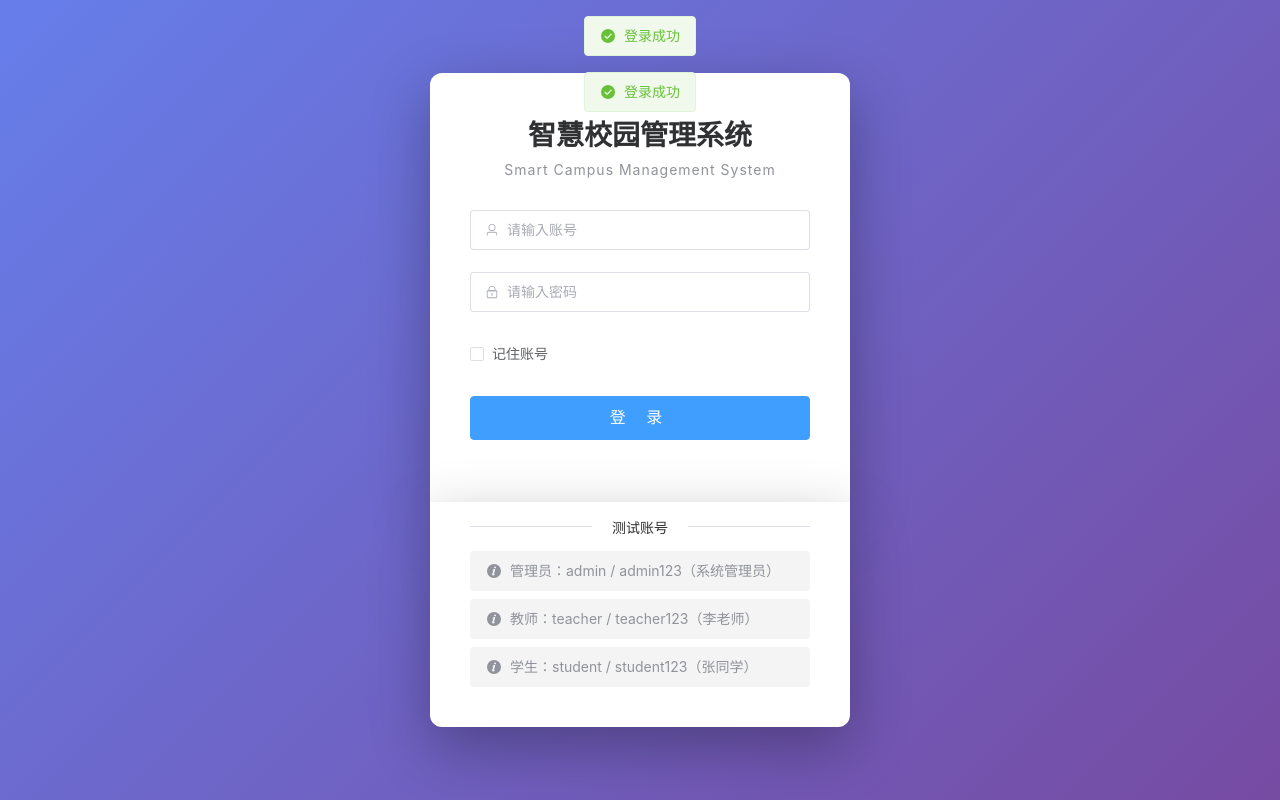
it: Login.vue - 测试账号一键填入回归测试 › 填入后主动触发登录才进入成功态 › 教师账号填入后 -> 点击登录按钮 -> 进入登录成功态
The image size is (1280, 800).
Click the message "教师：teacher / teacher123（李老师）" at (640, 619), box [470,599,810,639]
Wait 50 ms
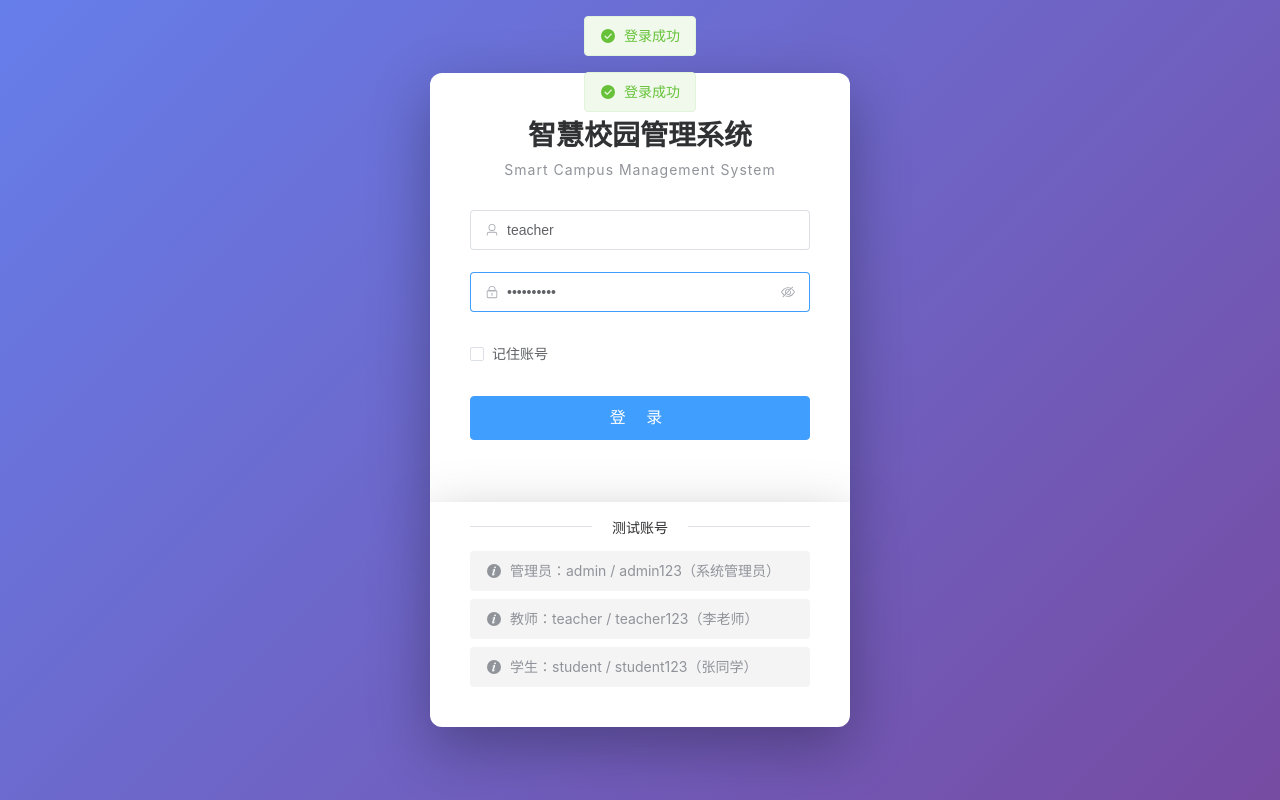
Check: the field holds "teacher", box [507,211,795,249]
Check: the password field holds "teacher123", box [507,273,773,311]
Click the button with class "login-btn" at (640, 418), box [470,396,810,440]
Wait 600 ms
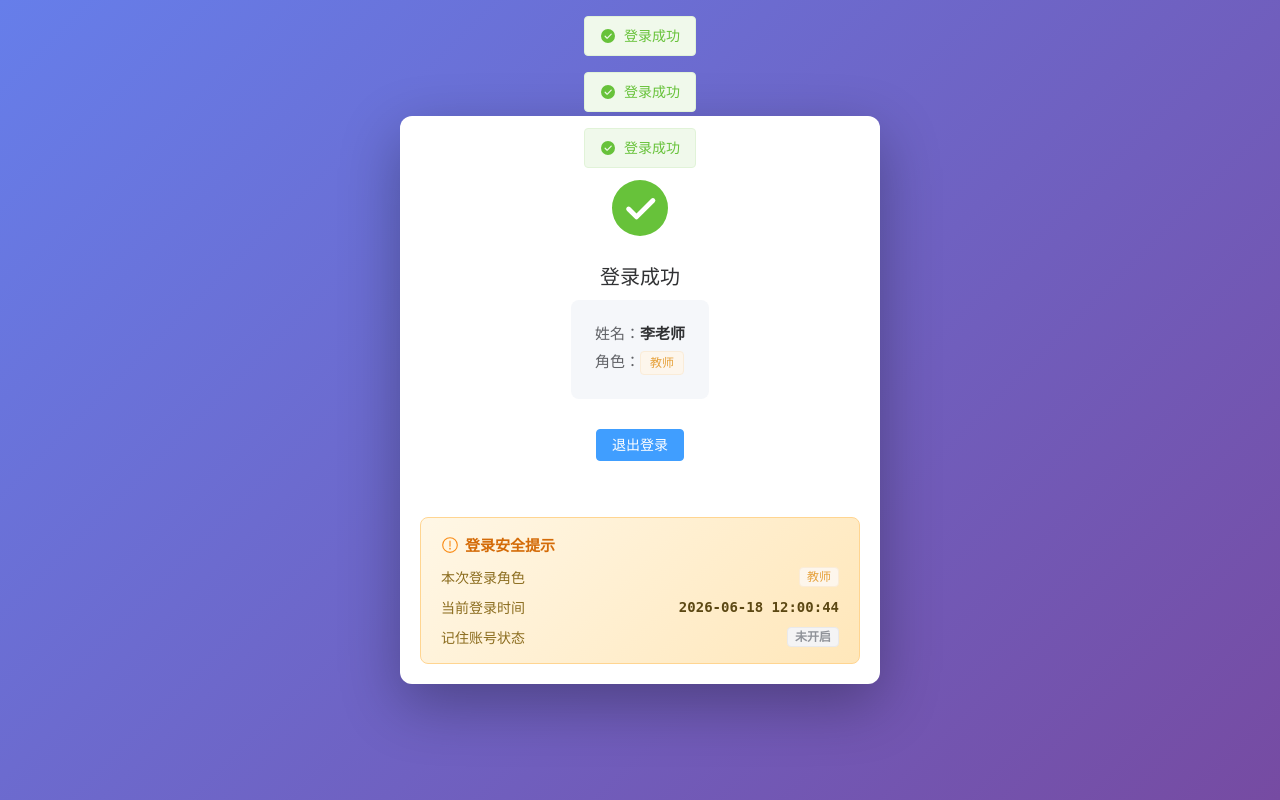
Check: the text "李老师" is shown, box [640,324,685,343]
Check: the element that starts with "登录成功" is shown, box [400,116,880,684]
